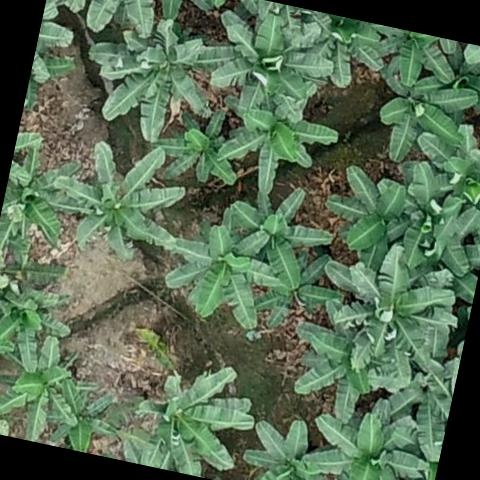Banana-plant: (42, 135, 189, 266), (330, 248, 464, 384), (82, 18, 216, 150), (126, 354, 259, 480), (203, 1, 340, 120), (209, 88, 342, 206), (161, 221, 284, 330), (286, 326, 407, 428), (368, 67, 476, 171), (221, 182, 336, 276), (0, 135, 81, 265), (0, 335, 87, 445), (318, 161, 416, 256), (305, 407, 427, 480), (147, 106, 248, 191), (391, 182, 480, 276), (290, 8, 390, 87), (0, 279, 76, 379), (406, 116, 480, 213), (237, 407, 333, 480), (254, 248, 335, 332), (368, 24, 459, 92), (40, 384, 120, 454), (433, 42, 480, 115)
